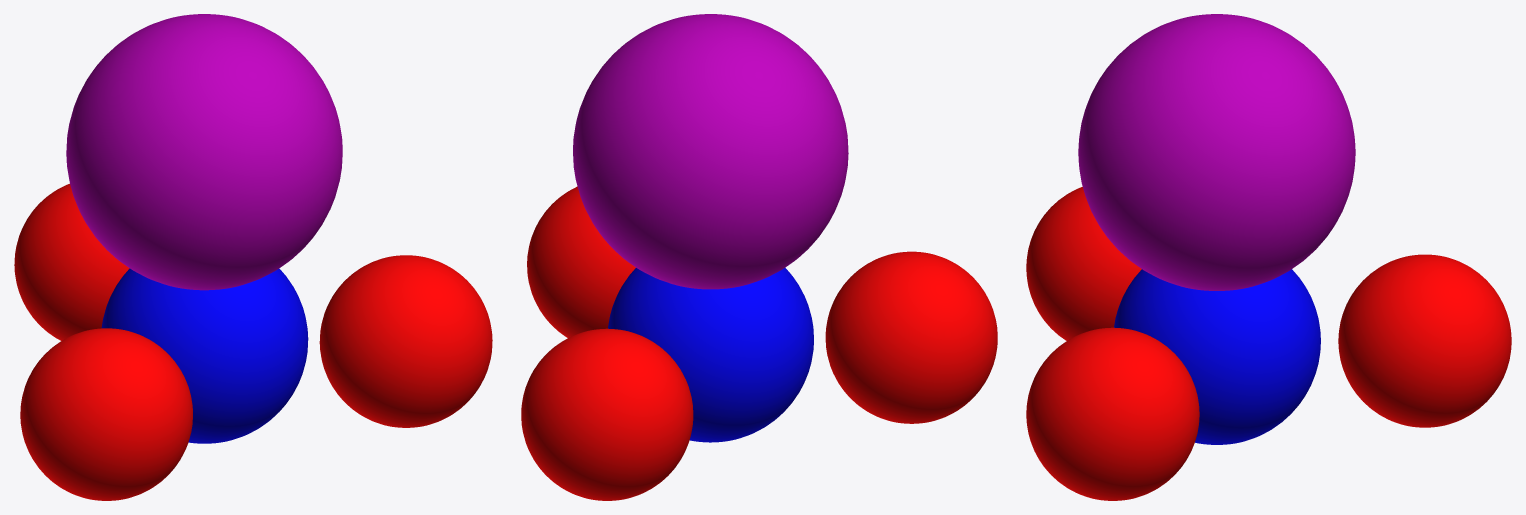
File: NaNO3.glb
3 views of the same model, side by side, from view 1: azimuth 30°, elevation 25°; view 2: azimuth 150°, elevation 25°; view 3: azimuth 270°, elevation 25° (orthographic).
Visible parts, largest first — view 1: Na, O3, O2, N, O1; view 2: Na, O3, O1, N, O2; view 3: Na, O1, O2, N, O3.
Boxes of the visible parts, <box> form: Na: <box>66,14,342,290</box>; O3: <box>20,328,192,500</box>; O2: <box>319,255,492,427</box>; N: <box>101,268,308,443</box>; O1: <box>14,183,129,340</box>; Na: <box>573,14,848,289</box>; O3: <box>825,251,997,423</box>; O1: <box>521,328,693,500</box>; N: <box>608,267,813,442</box>; O2: <box>527,186,635,337</box>; Na: <box>1078,14,1355,290</box>; O1: <box>1338,254,1511,427</box>; O2: <box>1026,327,1199,500</box>; N: <box>1114,269,1320,444</box>; O3: <box>1026,187,1141,340</box>.
Size of the model in its own units: 3 by 2.6 by 2.8.
